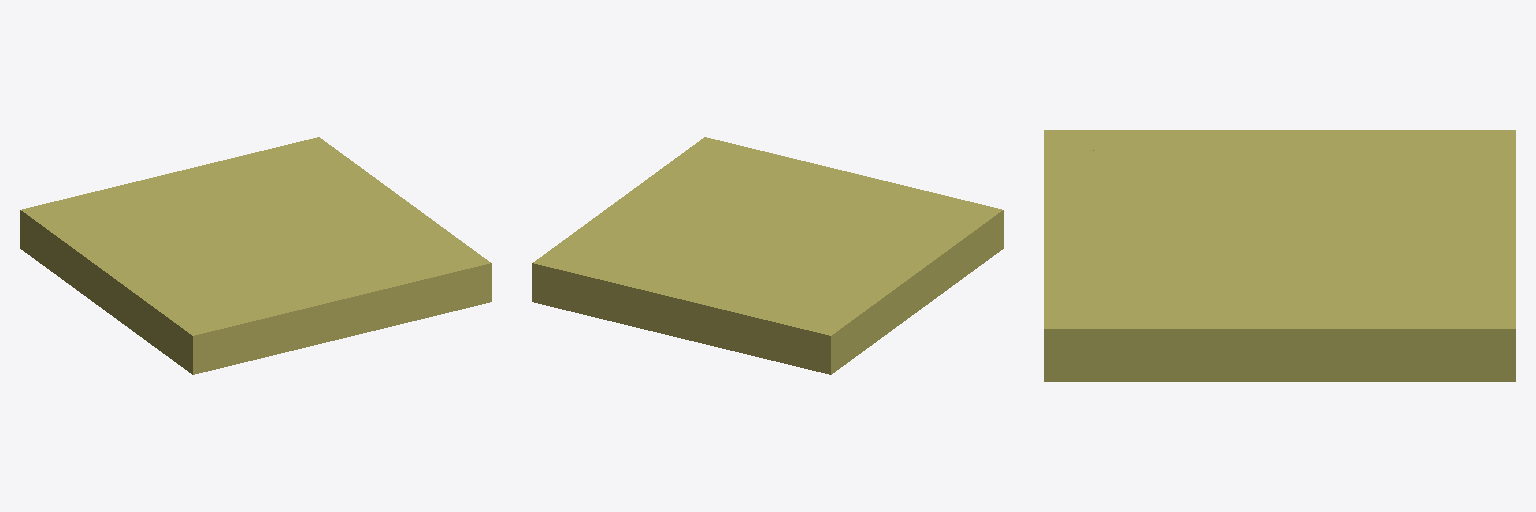
URDF robot description (floor):
<?xml version="1.0" ?>
<robot name="floor">
  <link name="floor">
    <contact>
      <lateral_friction value="1.0"/>
    </contact>
    <inertial>
      <origin
        xyz="0 0 0"
        rpy="0 0 0"/>
       <mass
         value="0.0"/>
       <inertia
         ixx="0"
         ixy="0"
         ixz="0"
         iyy="0"
         iyz="0"
         izz="0"/>
    </inertial>
    <visual>
      <origin
        xyz="0 0 0"
        rpy="0 0 0"/>
      <geometry>
        <mesh
          filename="plane100.obj" scale="1 1 1"/>
      </geometry>
      <material
        name="white">
        <color
          rgba="1 1 1 1"/>
      </material>
    </visual>
    <collision>
      <origin
        xyz="0 0 0"
        rpy="0 0 0"/>
      <geometry>
        <mesh
            filename="plane100.obj" scale="1 1 1"/>
	    <plane normal="0 0 1"/>
      </geometry>
    </collision>
  </link>

  <joint name="joint_plane1" type="fixed">
    <parent link="floor"/>
    <child link="box1"/>
    <origin
      xyz="0.1 0.1 0.05"
      rpy="0 0 0" />
  </joint>

  <link
    name="box1">
    <inertial>
      <origin
        xyz="0.18979 0.2 0.029167"
        rpy="0 0 0" />
      <mass
        value="17.5" />
      <inertia
        ixx="0.24078"
        ixy="-3.71495684370083E-17"
        ixz="-0.042535"
        iyy="0.97967"
        iyz="1.39467056759545E-17"
        izz="1.2056" />
    </inertial>
    <visual>
      <origin
        xyz="0 0 0"
        rpy="0 0 0" />
      <geometry>
        <box size="0.8 0.8 0.1" />
      </geometry>
      <material
        name="2">
        <color
          rgba="0.74117 0.71764 0.41961 1" />
        <texture
          filename="" />
      </material>
    </visual>
    <collision>
      <origin
        xyz="0 0 0"
        rpy="0 0 0" />
      <geometry>
        <box size="0.8 0.8 0.1" />
      </geometry>
    </collision>
  </link>

  <joint name="joint_wave1" type="fixed">
    <parent link="floor"/>
    <child link="wave1"/>
    <origin
      xyz="-0.3 1.25 0.05" 
      rpy="1.5707963267949 0 -1.5707963267949" /><!--xyz="0.5 0.5 0"--><!--wave.stl--><!--xyz="0.5 0.58 -0.02"--><!--wave-new.stl-->
  </joint>

  <link
    name="wave1">
    <inertial>
      <!--<origin
        xyz="0.48466 0.2015 0.054283"
        rpy="0 0 0" />
      <mass
        value="85.665" />
      <inertia
        ixx="4.6576"
        ixy="-1.94510000000046E-05"
        ixz="0.074432"
        iyy="7.209"
        iyz="-1.88659999997257E-05"
        izz="11.689" />--><!--wave.stl-->
      <origin
        xyz="-0.043083 0.39987 0.010543"
        rpy="0 0 0" />
      <mass
        value="133.76" />
      <inertia
        ixx="7.3408"
        ixy="0.00546059999999998"
        ixz="0.38909"
        iyy="28.212"
        iyz="-0.000727769999999576"
        izz="35.144" /><!--wave-1.stl-->
    </inertial>
    <visual>
      <origin
        xyz="0 0 0"
        rpy="0 0 0" />
      <geometry>
        <mesh
          filename="wave-1.STL" />
      </geometry>
      <material
        name="1">
        <color
          rgba="0.79216 0.81961 0.93333 1" />
      </material>
    </visual>
    <collision>
      <origin
        xyz="0 0 0"
        rpy="0 0 0" />
      <geometry>
        <mesh
          filename="wave-1.STL" />
      </geometry>
    </collision>
  </link>

  <!--<joint name="joint_plane2" type="fixed">
    <parent link="floor"/>
    <child link="box2"/>
    <origin
      xyz="0.1 1.7 0.05"
      rpy="0 0 0" />
  </joint>

  <link
    name="box2">
    <inertial>
      <origin
        xyz="0.18979 0.2 0.029167"
        rpy="0 0 0" />
      <mass
        value="17.5" />
      <inertia
        ixx="0.24078"
        ixy="-3.71495684370083E-17"
        ixz="-0.042535"
        iyy="0.97967"
        iyz="1.39467056759545E-17"
        izz="1.2056" />
    </inertial>
    <visual>
      <origin
        xyz="0 0 0"
        rpy="0 0 0" />
      <geometry>
        <box size="0.8 0.4 0.1" />
      </geometry>
      <material
        name="2">
        <color
          rgba="0.74117 0.71764 0.41961 1" />
        <texture
          filename="" />
      </material>
    </visual>
    <collision>
      <origin
        xyz="0 0 0"
        rpy="0 0 0" />
      <geometry>
        <box size="0.8 0.4 0.1" />
      </geometry>
    </collision>
  </link>

  <joint name="joint_wave2" type="fixed">
    <parent link="floor"/>
    <child link="wave2"/>
    <origin
      xyz="0.5 1.9 0"
      rpy="0 0 0" />
  </joint>

  <link
    name="wave2">
    <inertial>
      <origin
        xyz="0.48466 0.2015 0.054283"
        rpy="0 0 0" />
      <mass
        value="85.665" />
      <inertia
        ixx="4.6576"
        ixy="-1.94510000000046E-05"
        ixz="0.074432"
        iyy="7.209"
        iyz="-1.88659999997257E-05"
        izz="11.689" />
    </inertial>
    <visual>
      <origin
        xyz="0 0 0"
        rpy="1.5707963267949 0 1.5707963267949" />
      <geometry>
        <mesh
          filename="wave.STL" />
      </geometry>
      <material
        name="1">
        <color
          rgba="0.79216 0.81961 0.93333 1" />
      </material>
    </visual>
    <collision>
      <origin
        xyz="0 0 0"
        rpy="1.5707963267949 0 1.5707963267949" />
      <geometry>
        <mesh
          filename="wave.STL" />
      </geometry>
    </collision>
  </link>-->

</robot>

--- Render facts (derived) ---
3 views of the same robot in one strip: view 1: azimuth 30°, elevation 25°; view 2: azimuth 150°, elevation 25°; view 3: azimuth 270°, elevation 25° (orthographic).
Model floor with 3 links and 2 joints (2 fixed), rooted at floor, posed all joints at 0.
Links seen in each view (by area): view 1: box1; view 2: box1; view 3: box1.
Link boxes in pixels (x1=…): box1: x1=20, y1=137, x2=491, y2=374; box1: x1=532, y1=137, x2=1003, y2=374; box1: x1=1044, y1=130, x2=1515, y2=381.
Size in the robot's own frame: 0.8 by 0.8 by 0.1 metres.
Meshes: 2 distinct files referenced, 0 mesh visuals loaded (none loaded); not drawn: 2 (reference not matched to a file when rendering).